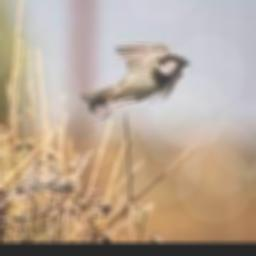Sparrow: (79, 42, 189, 121)
